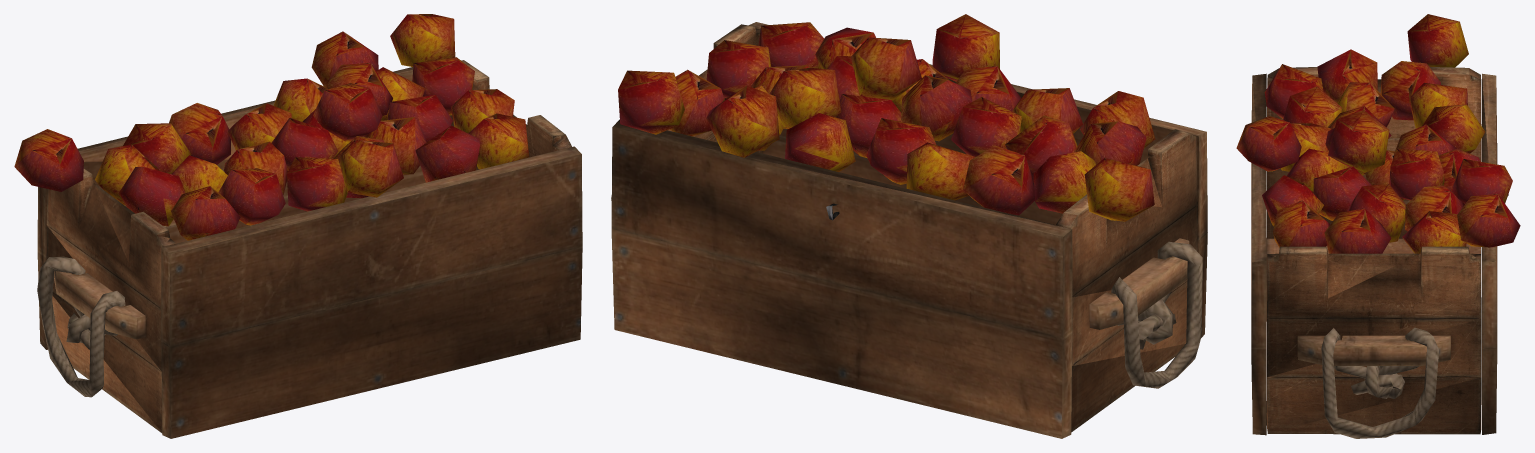
File: AppleCrate.glb
3 renders of one model, left to right at view 1: azimuth 30°, elevation 25°; view 2: azimuth 150°, elevation 25°; view 3: azimuth 270°, elevation 25°, orthographic. The views are drawn at different scales.
Visible parts, largest first — view 1: AppleCrate; view 2: AppleCrate; view 3: AppleCrate.
Part boxes in pixels (x1,y1,x2,y2): AppleCrate: (14, 14, 582, 438); AppleCrate: (611, 14, 1207, 438); AppleCrate: (1236, 14, 1520, 438).
Size of the model in its own units: 0.8377 by 0.4115 by 0.4483.
Materials: 2 (2 with a texture image).
